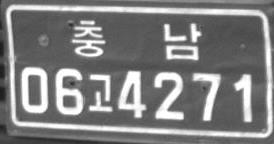0: (20, 65, 49, 114)
1: (232, 72, 260, 123)
2: (152, 70, 185, 120)
4: (116, 69, 148, 118)
6: (54, 66, 85, 116)
7: (190, 71, 222, 122)
고: (87, 72, 114, 113)
충남_D: (71, 19, 201, 61)
